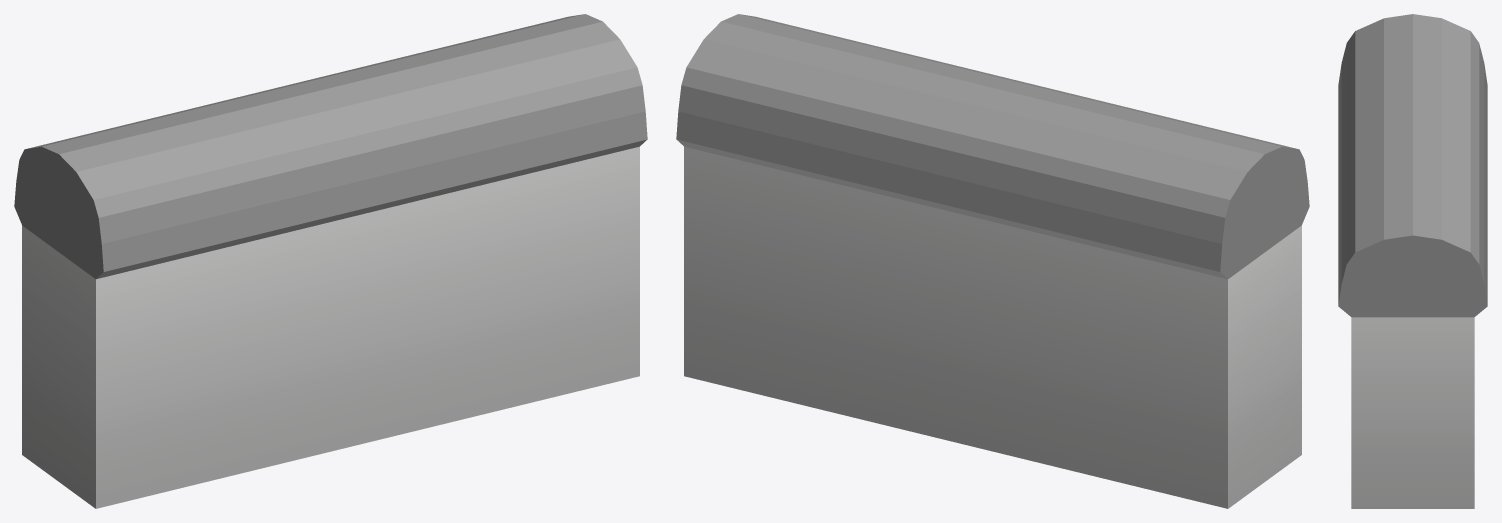
The model's file is wall_broken.fbx.
3 views of the same model, side by side, from view 1: azimuth 30°, elevation 25°; view 2: azimuth 150°, elevation 25°; view 3: azimuth 270°, elevation 25° (orthographic). The views are drawn at different scales.
Visible parts, largest first — view 1: wall_broken, wall_part_006, wall_part_034, wall_part_007, wall_part_020, wall_part_029, wall_part_026, wall_part_019, wall_part_031, wall_part_030, wall_part_040, wall_part_011 (+14 smaller); view 2: wall_broken, wall_part_036, wall_part_035, wall_part_037, wall_part_013, wall_part_027, wall_part_039, wall_part_019, wall_part_038, wall_part_040, wall_part_011, wall_part_030 (+10 smaller); view 3: wall_broken, wall_part_040, wall_part_039, wall_part_032, wall_part_031, wall_part_037, wall_part_034, wall_part_036, wall_part_035, wall_part_038, wall_part_026, wall_part_028 (+2 smaller).
Boxes of the visible parts, box(x1,y1,x2,y2) form: wall_broken: box(22, 14, 647, 507); wall_part_006: box(111, 305, 263, 464); wall_part_034: box(431, 71, 560, 232); wall_part_007: box(250, 341, 377, 470); wall_part_020: box(227, 247, 376, 376); wall_part_029: box(78, 229, 229, 350); wall_part_026: box(584, 56, 646, 249); wall_part_019: box(22, 201, 93, 348); wall_part_031: box(144, 97, 314, 284); wall_part_030: box(45, 143, 117, 273); wall_part_040: box(468, 15, 624, 94); wall_part_011: box(22, 286, 68, 411); wall_broken: box(678, 14, 1306, 508); wall_part_036: box(928, 113, 1079, 331); wall_part_035: box(1071, 145, 1257, 331); wall_part_037: box(832, 65, 976, 229); wall_part_013: box(988, 301, 1151, 486); wall_part_027: box(766, 205, 991, 335); wall_part_039: box(676, 86, 772, 226); wall_part_019: box(1228, 211, 1299, 339); wall_part_038: box(883, 105, 998, 262); wall_part_040: box(681, 14, 881, 120); wall_part_011: box(1160, 331, 1274, 441); wall_part_030: box(1227, 146, 1309, 225); wall_broken: box(1338, 14, 1487, 508); wall_part_040: box(1349, 188, 1483, 271); wall_part_039: box(1367, 243, 1485, 369); wall_part_032: box(1356, 97, 1443, 172); wall_part_031: box(1358, 52, 1471, 103); wall_part_037: box(1406, 128, 1487, 241); wall_part_034: box(1338, 164, 1399, 262); wall_part_036: box(1441, 93, 1487, 198); wall_part_035: box(1428, 18, 1487, 124); wall_part_038: box(1439, 120, 1487, 212); wall_part_026: box(1338, 238, 1366, 305); wall_part_028: box(1388, 24, 1428, 53).
Bounding box in the file's own units: 1066 × 614 × 304.
Materials: 1 (1 with a texture image).
